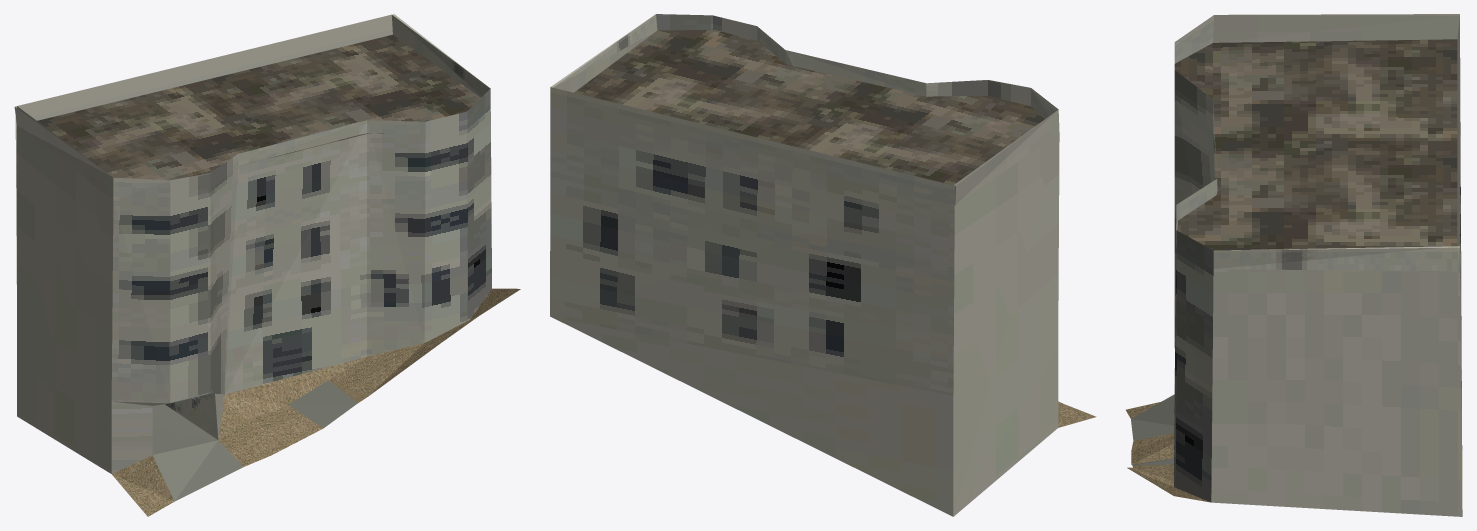
The model's file is lod1bchapa5_lae.obj.
3 renders of one model, left to right at view 1: azimuth 30°, elevation 25°; view 2: azimuth 150°, elevation 25°; view 3: azimuth 270°, elevation 25°, orthographic. The views are drawn at different scales.
Parts seen in each view (by area): view 1: LOD1BchApA5_LAe; view 2: LOD1BchApA5_LAe; view 3: LOD1BchApA5_LAe.
Part boxes in pixels (x1=…): LOD1BchApA5_LAe: x1=14, y1=14, x2=520, y2=516; LOD1BchApA5_LAe: x1=550, y1=14, x2=1096, y2=516; LOD1BchApA5_LAe: x1=1126, y1=14, x2=1462, y2=516.
Size of the model in its own units: 21.71 by 17.12 by 13.23.
Materials: 3 (3 with a texture image).
